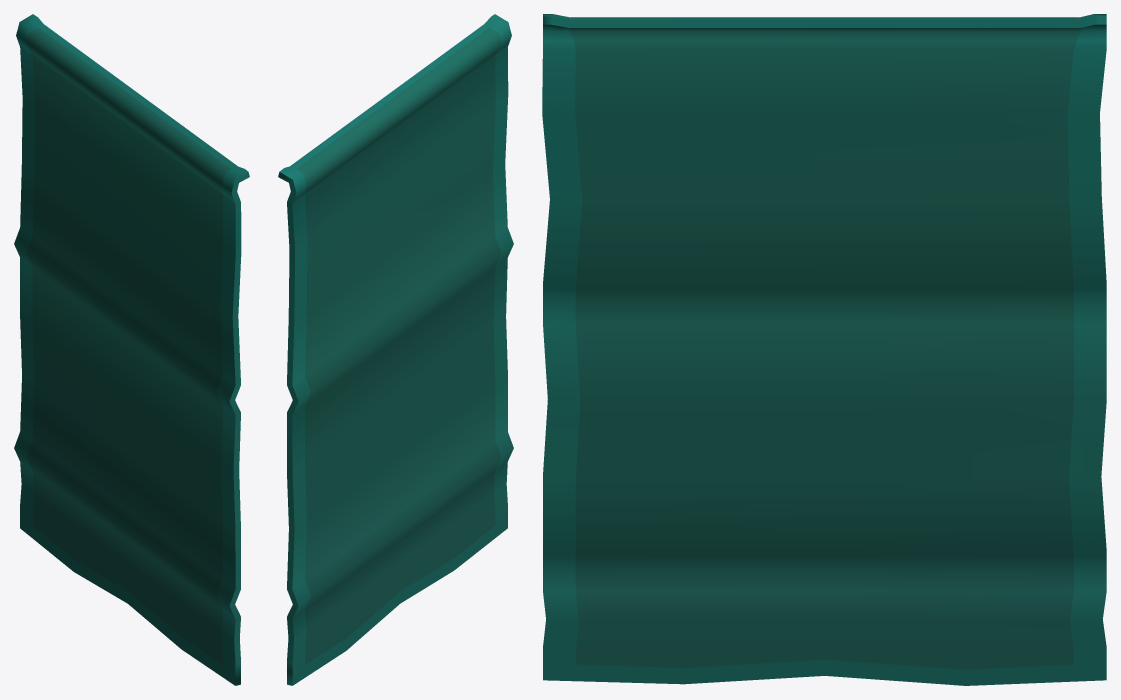
Rendered from Scaffold_sheet_1_6.fbx.
3 renders of one model, left to right at view 1: azimuth 30°, elevation 25°; view 2: azimuth 150°, elevation 25°; view 3: azimuth 270°, elevation 25°, orthographic. The views are drawn at different scales.
Parts seen in each view (by area): view 1: Scaffold_sheet_1_6; view 2: Scaffold_sheet_1_6; view 3: Scaffold_sheet_1_6.
Boxes of the visible parts, bbox=[...] form: Scaffold_sheet_1_6: bbox=[14, 14, 249, 685]; Scaffold_sheet_1_6: bbox=[278, 14, 513, 685]; Scaffold_sheet_1_6: bbox=[542, 14, 1106, 685].
Bounding box in the file's own units: 10.1 × 242 × 184.
